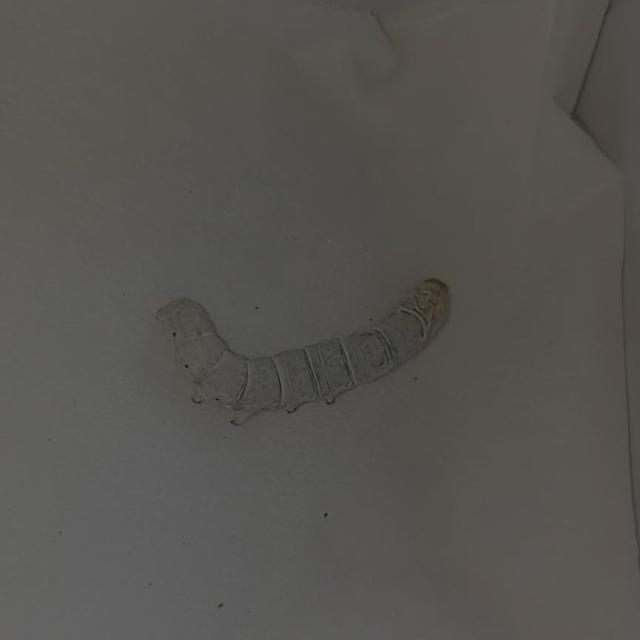Healthy: (134, 258, 510, 457)
